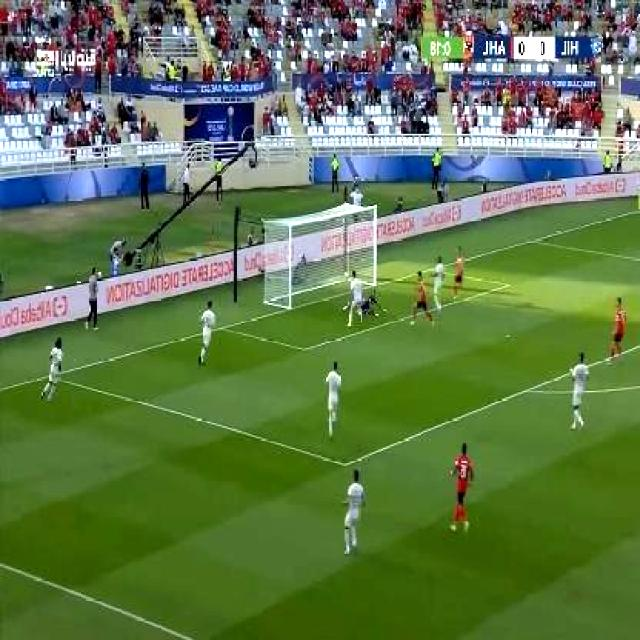bigarea_bottom_inner: (334, 449, 357, 477)
bigarea_top_outter: (525, 231, 543, 249)
bottom_arc_area_intersection: (518, 377, 540, 401)
corner: (632, 202, 640, 216)
smallarea_bottom_inner: (297, 335, 314, 360)
smallarea_bottom_outter: (214, 317, 232, 337)
smallarea_top_inner: (495, 274, 520, 295)
